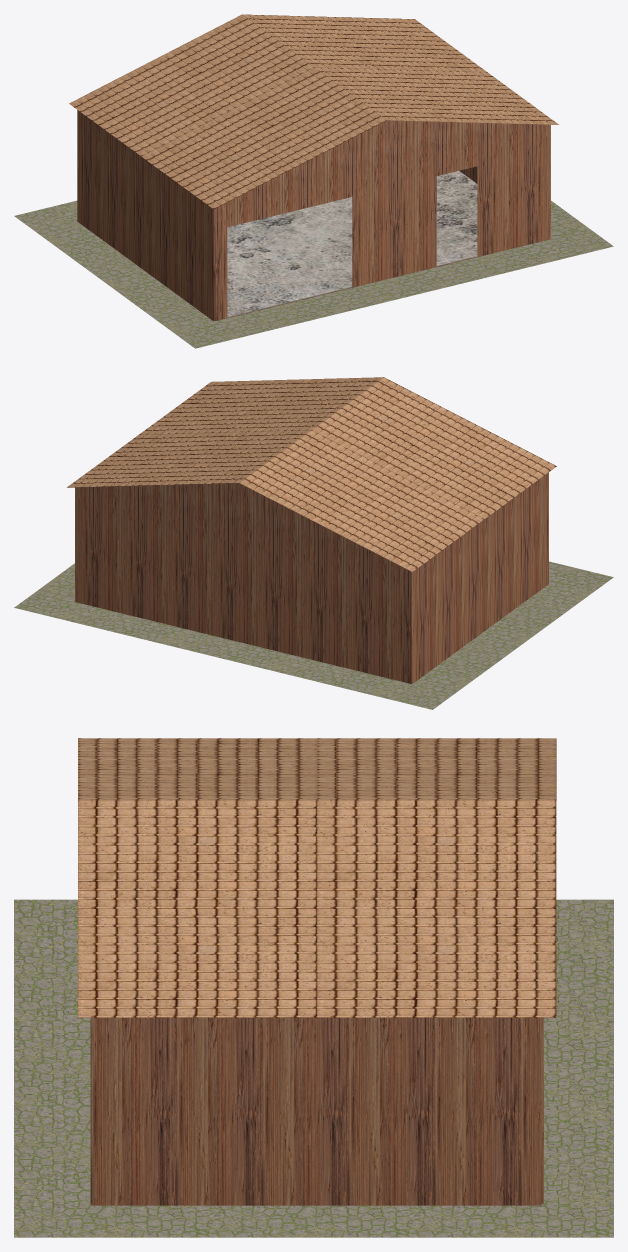
The model's file is exterior.glb.
3 views of the same model, one above another, from view 1: azimuth 30°, elevation 25°; view 2: azimuth 150°, elevation 25°; view 3: azimuth 270°, elevation 25° (orthographic). The views are drawn at different scales.
Visible parts, largest first — view 1: fachada, Plane, Plane.001, pisii, Cube; view 2: fachada, Plane, Plane.001, pisii; view 3: Plane.001, fachada, pisii, Plane.
Part boxes in pixels (x1,y1,x2,y2): fachada: (77, 17, 550, 321); Plane: (69, 14, 386, 209); Plane.001: (242, 14, 558, 124); pisii: (14, 200, 613, 348); Cube: (213, 171, 477, 321); fachada: (75, 380, 548, 683); Plane: (239, 377, 556, 571); Plane.001: (67, 377, 383, 487); pisii: (14, 561, 613, 709); Plane.001: (78, 799, 556, 1017); fachada: (90, 1017, 543, 1205); pisii: (14, 899, 613, 1237); Plane: (78, 738, 556, 800).
Size of the model in its own units: 9.29 by 3.46 by 6.97.
Materials: 4 (4 with a texture image).
